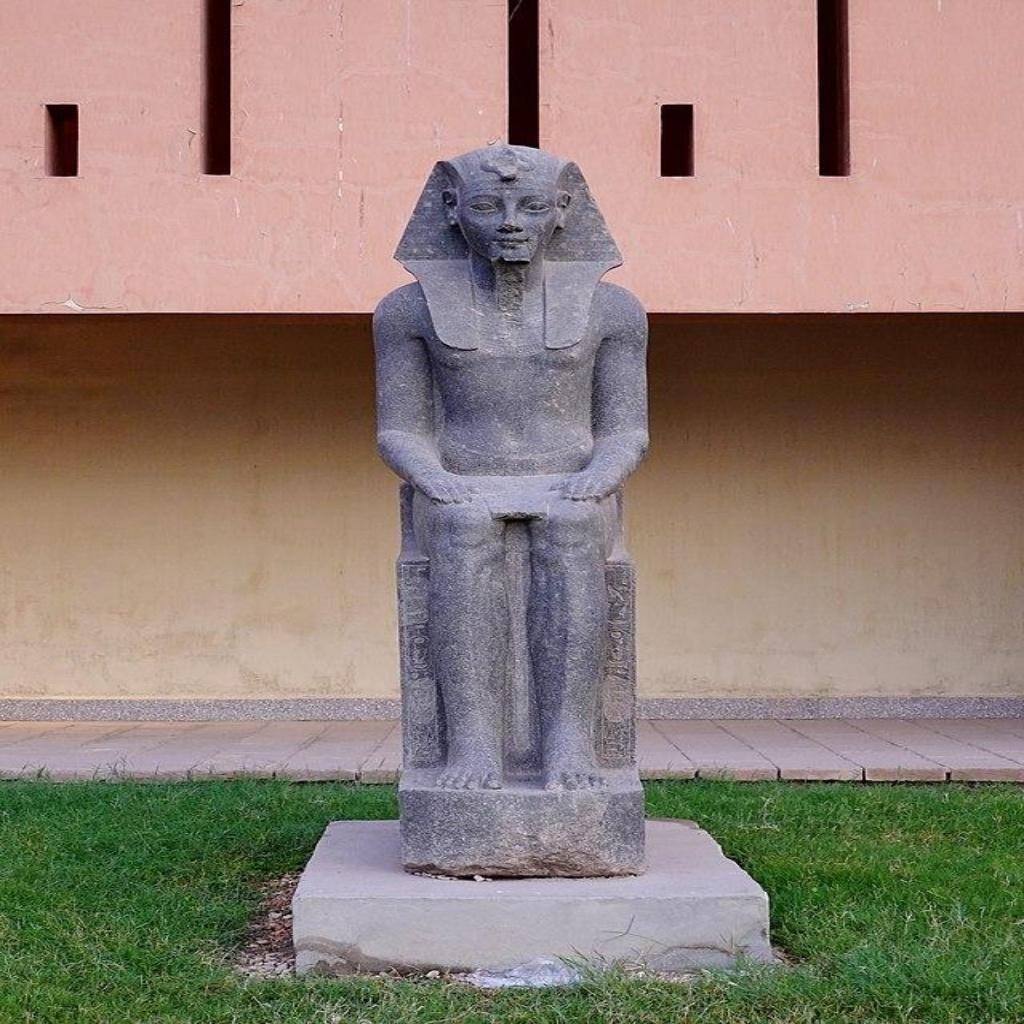Amenhotep III: (364, 140, 658, 878)
